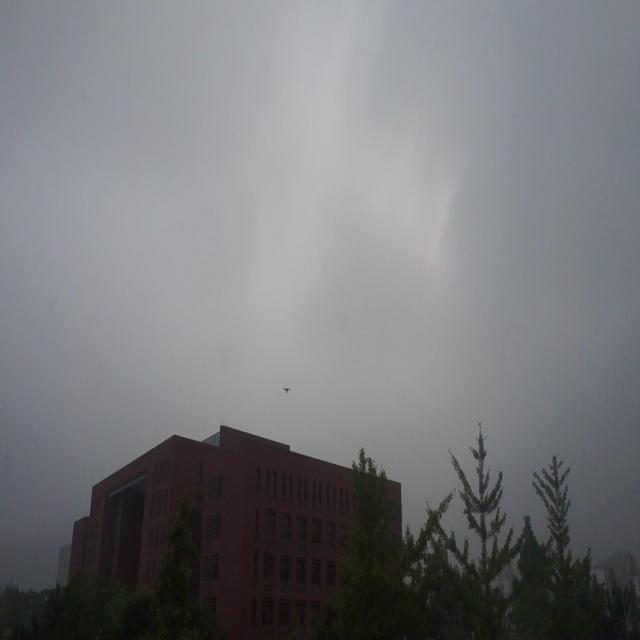drone: (282, 382, 293, 393)
